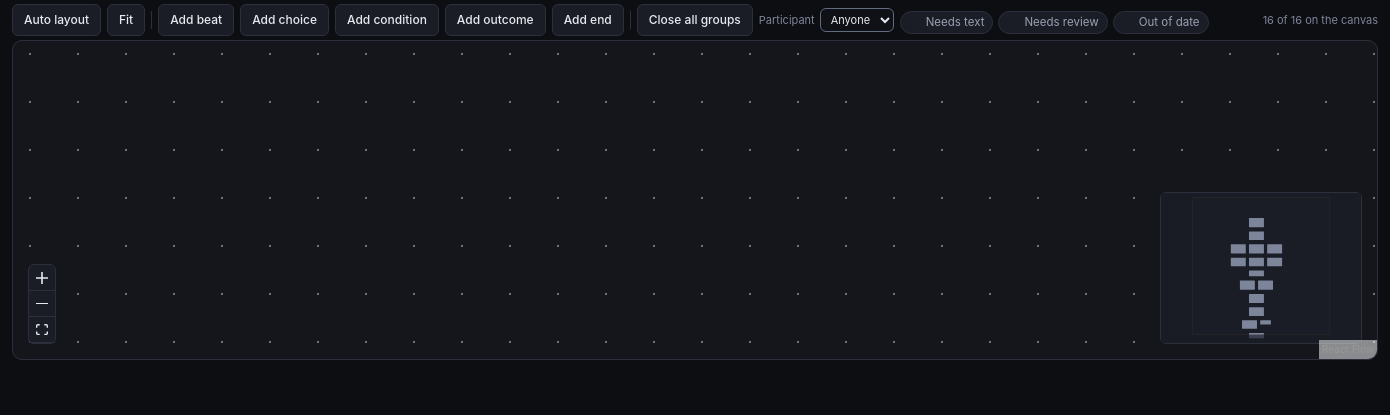
creating, collapsing and laying out › says so, out loud, when a layout fails
Click the button "Auto layout" at (56, 20), box [12,4,101,36]
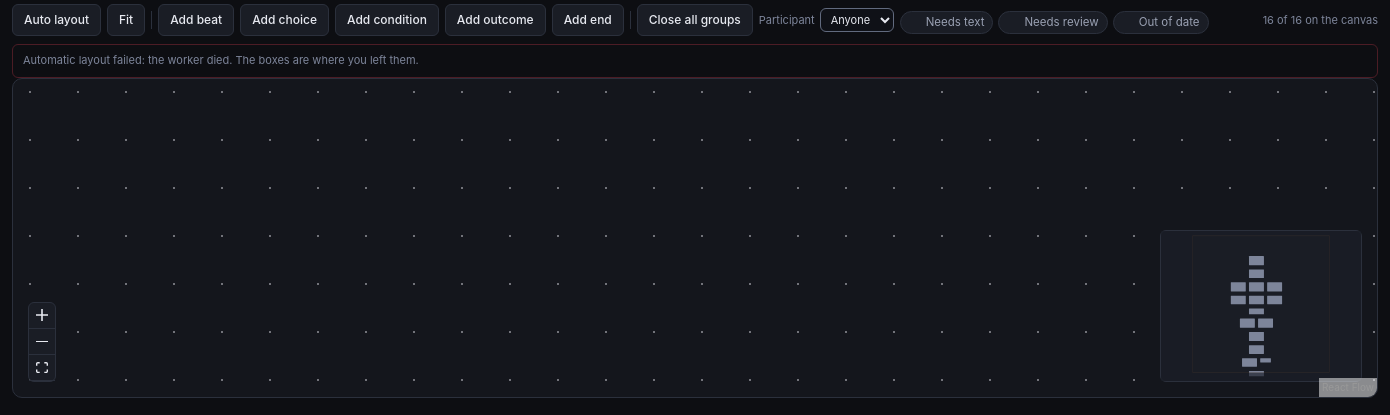
Now the message shows "the worker died", box [148,53,229,67]
